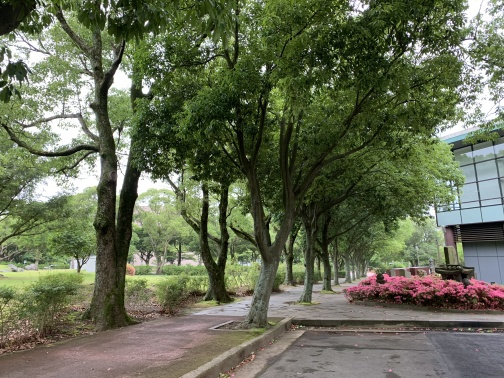Museum: (430, 120, 504, 289)
